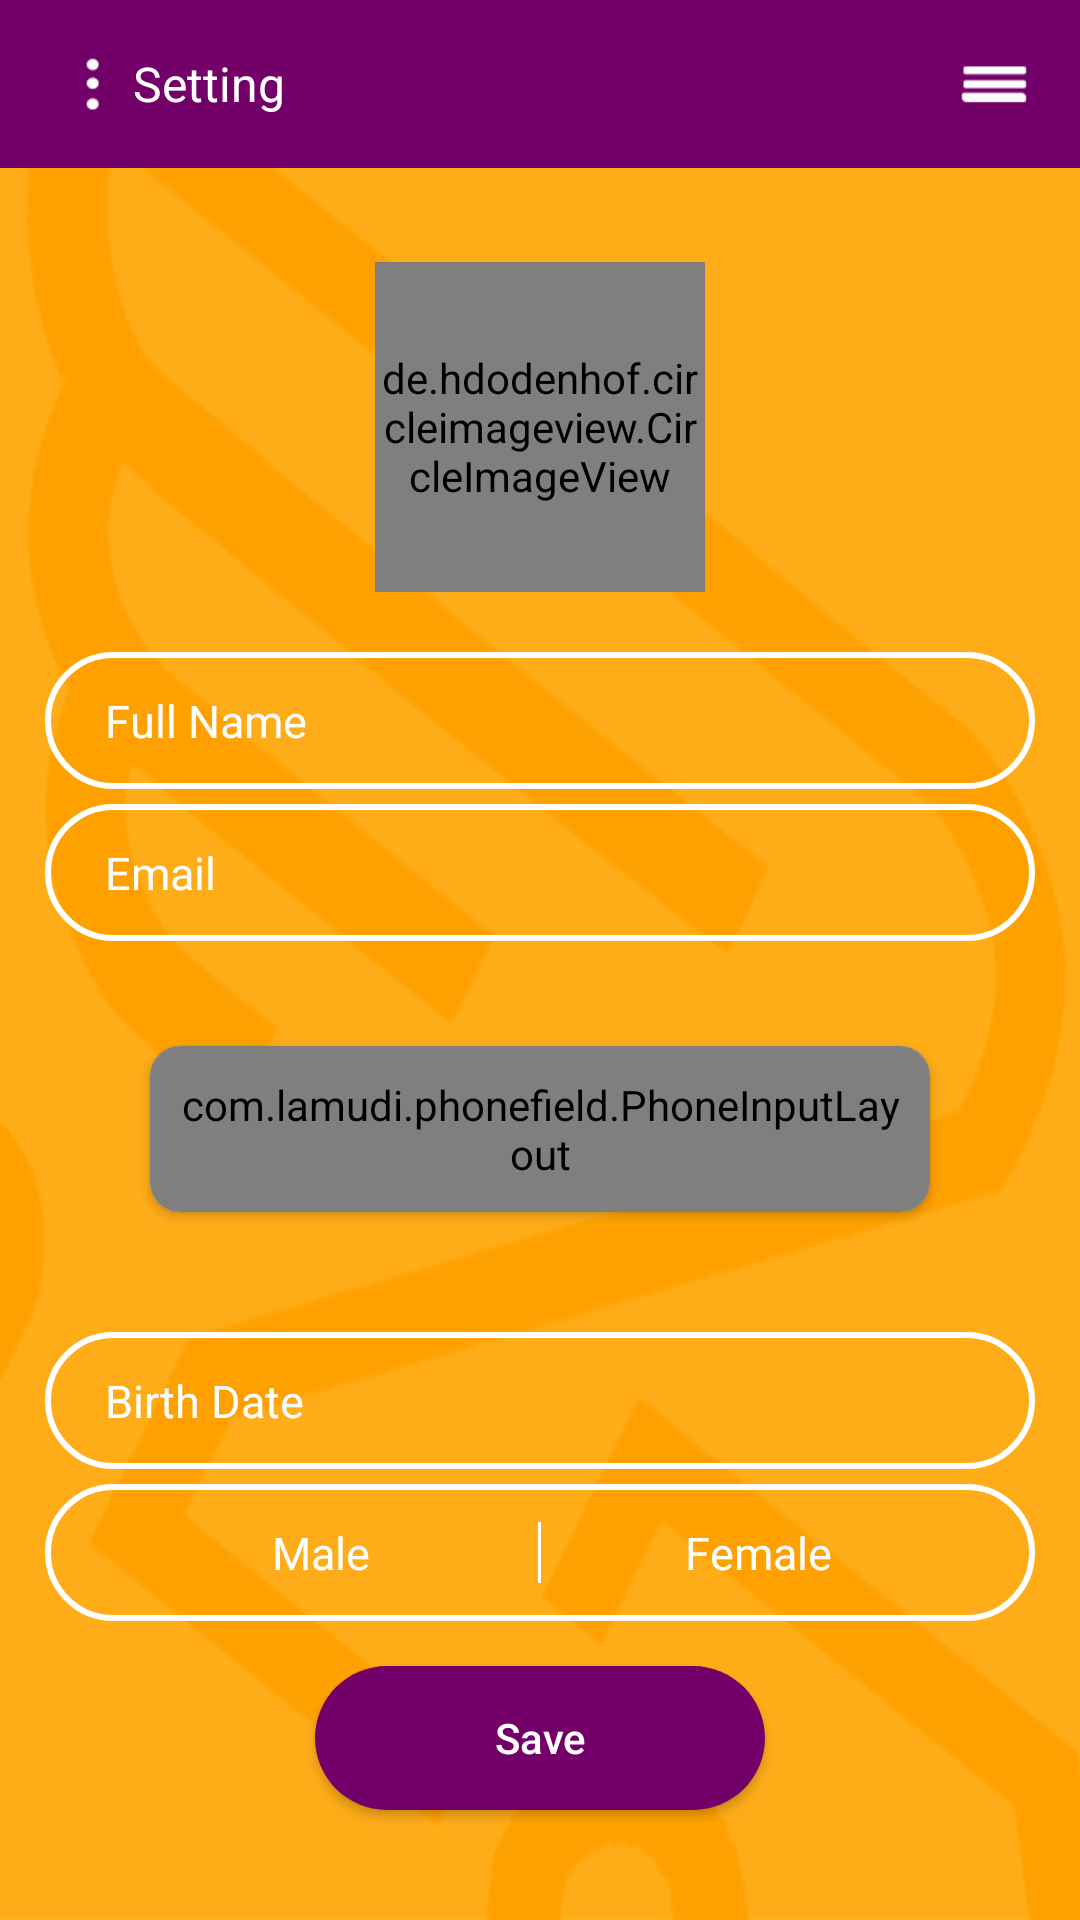

Icon click points for this 1080 x 1920 phone screenshot, format (x=x, y=y):
menu: (x=994, y=84)
